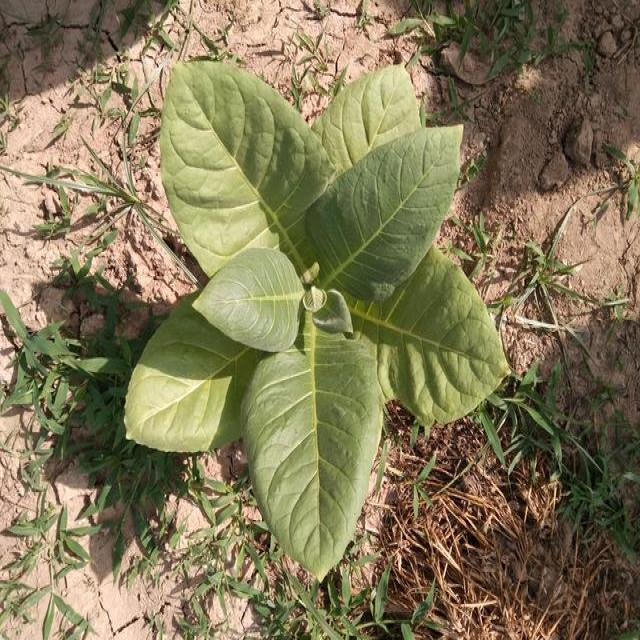crop: (128, 47, 508, 582)
